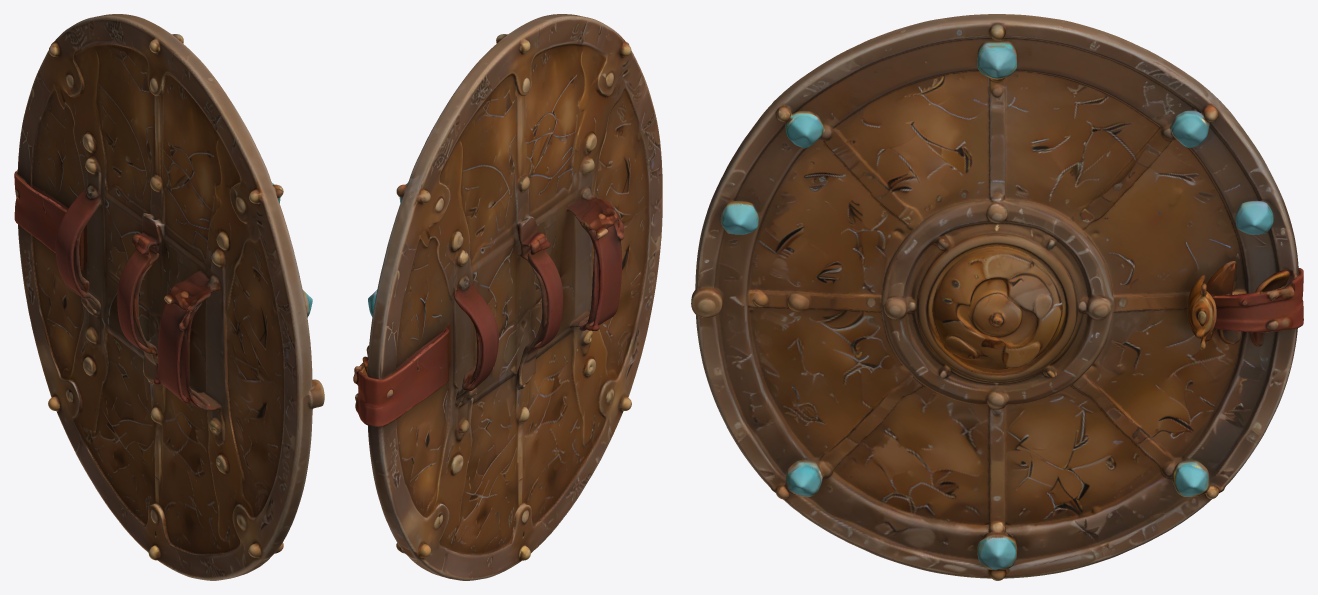
File: الدرع_اللولبي.glb
The picture shows the model from 3 angles, left to right: view 1: azimuth 30°, elevation 25°; view 2: azimuth 150°, elevation 25°; view 3: azimuth 270°, elevation 25°; orthographic projection. The views are drawn at different scales.
Visible parts, largest first — view 1: tripo_node_41ddf1ff-95e9-487a-8a18-892712d375a2; view 2: tripo_node_41ddf1ff-95e9-487a-8a18-892712d375a2; view 3: tripo_node_41ddf1ff-95e9-487a-8a18-892712d375a2.
Boxes of the visible parts, box(x1,y1,x2,y2) form: tripo_node_41ddf1ff-95e9-487a-8a18-892712d375a2: box(14, 14, 324, 580); tripo_node_41ddf1ff-95e9-487a-8a18-892712d375a2: box(353, 14, 662, 580); tripo_node_41ddf1ff-95e9-487a-8a18-892712d375a2: box(691, 14, 1303, 580).
Size of the model in its own units: 0.1982 by 1 by 0.9914.
1 material, 1 textured.
